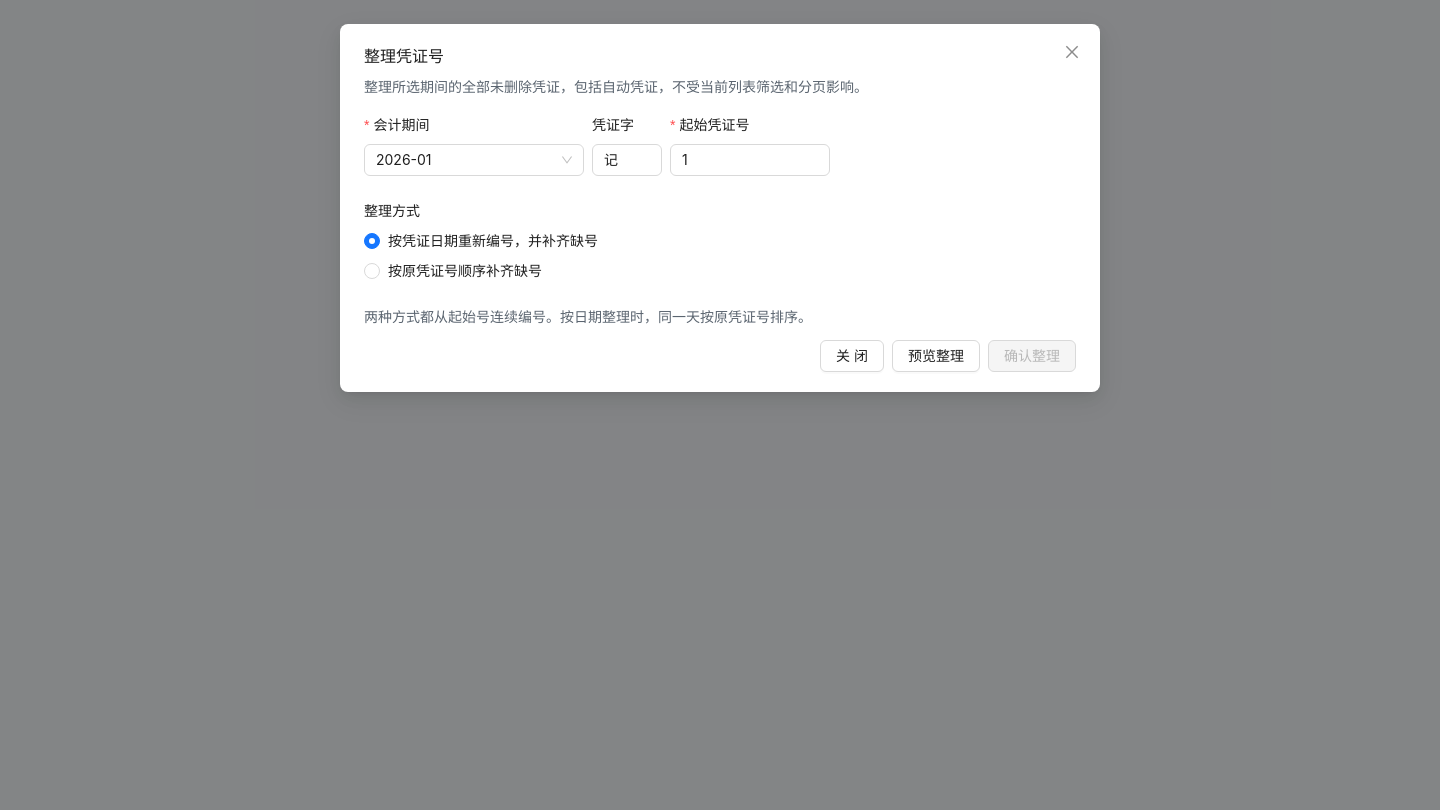
Test case: 整理凭证号 › shows a normal no-change result and prevents execution
This screenshot has width=1440, height=810.
Replace the text in the field named "起始凭证号" with "0" at point(750, 160), box 670,144 -> 830,176
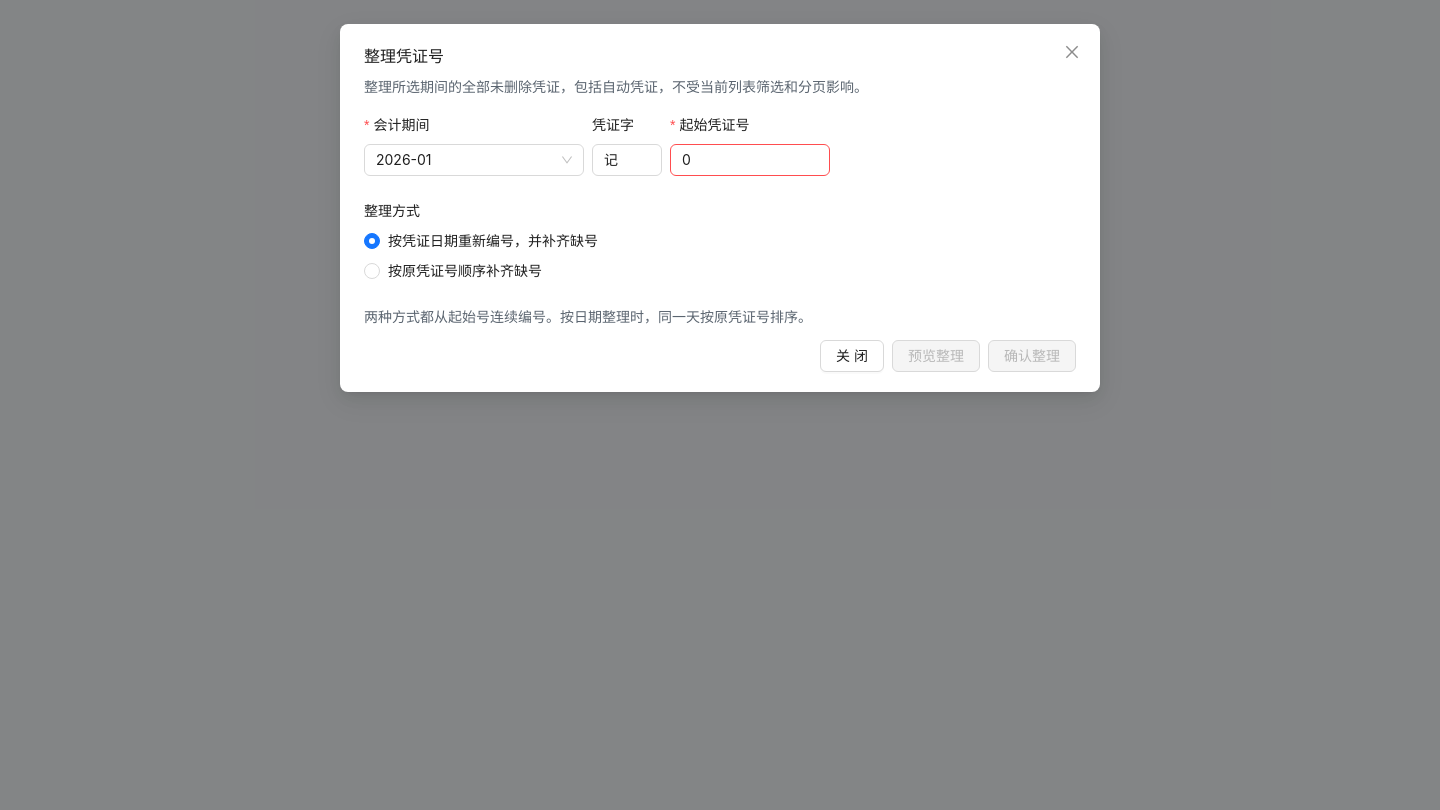
Expected: the button "预览整理" is disabled, 892,340 -> 980,372
Replace the text in the field named "起始凭证号" with "1" at point(750, 160), box 670,144 -> 830,176
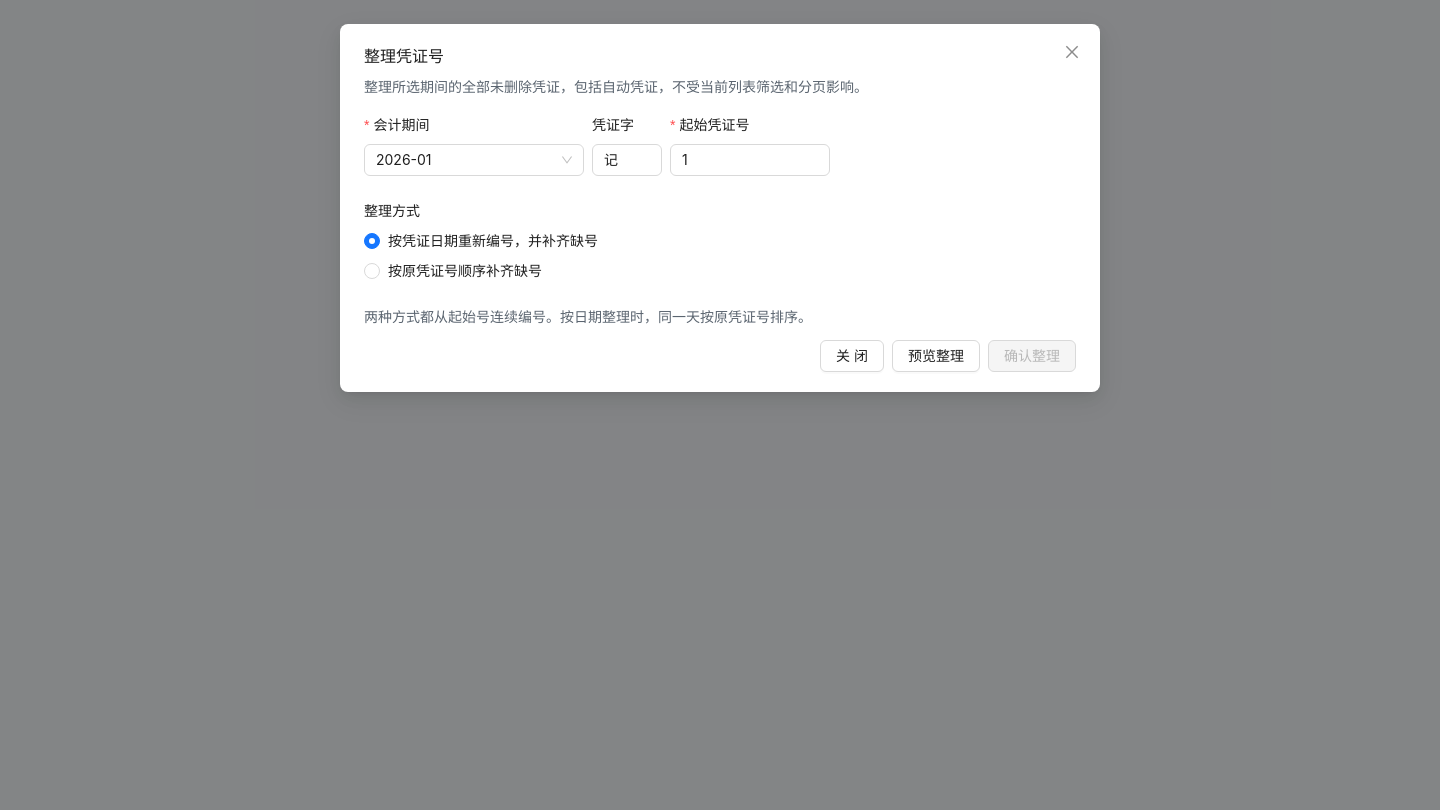
Click the button "预览整理" at point(936, 356), box 892,340 -> 980,372
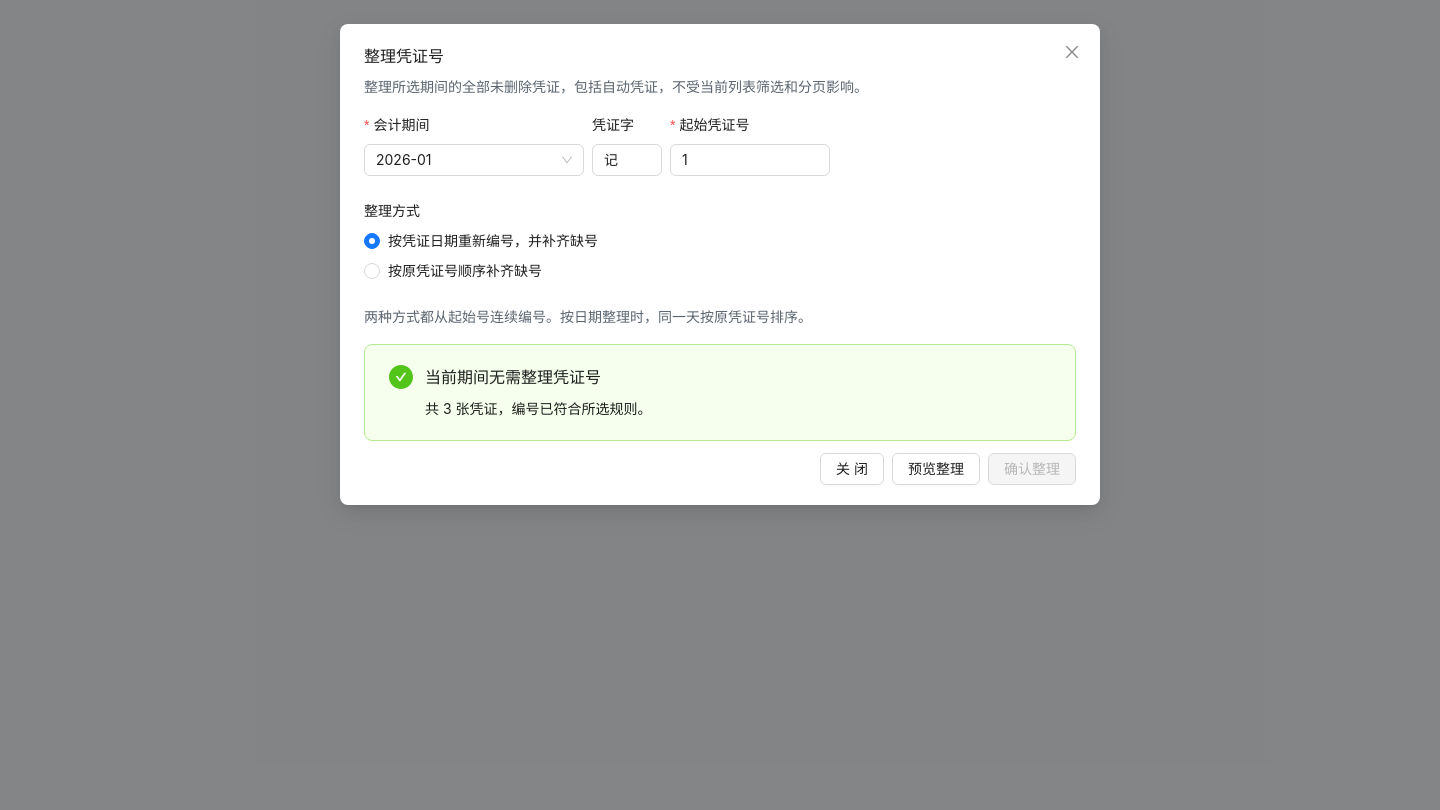
Expected: the button "确认整理" is disabled, 988,453 -> 1076,485
Expected: the text "当前期间无需整理凭证号" is shown, 425,367 -> 601,387
